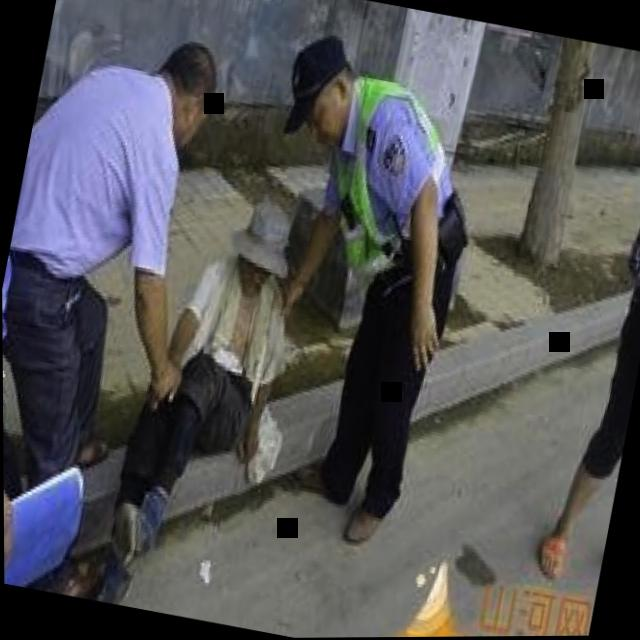Fall-Detected: (59, 145, 352, 613)
